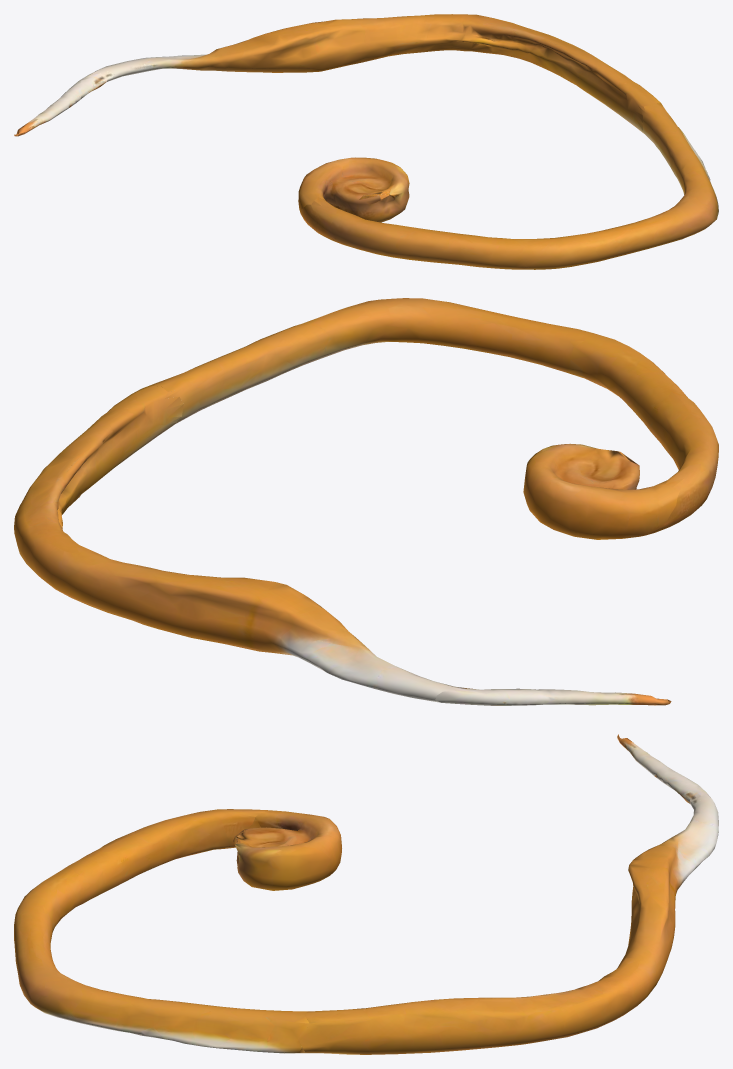
File: ascaris-lumbricoides_A.glb
3 renders of one model, top to bottom at view 1: azimuth 30°, elevation 25°; view 2: azimuth 150°, elevation 25°; view 3: azimuth 270°, elevation 25°, orthographic. The views are drawn at different scales.
Parts seen in each view (by area): view 1: ExtAnt_mesh, ExtPost_mesh, Cola_mesh, Cabeza_mesh; view 2: ExtAnt_mesh, ExtPost_mesh, Cola_mesh, Cabeza_mesh; view 3: ExtAnt_mesh, ExtPost_mesh, Cola_mesh, Cabeza_mesh.
Boxes of the visible parts, x1=… form: ExtAnt_mesh: x1=96, y1=14, x2=660, y2=133; ExtPost_mesh: x1=14, y1=103, x2=718, y2=269; Cola_mesh: x1=298, y1=157, x2=409, y2=222; Cabeza_mesh: x1=14, y1=70, x2=107, y2=136; ExtAnt_mesh: x1=14, y1=385, x2=454, y2=702; ExtPost_mesh: x1=144, y1=298, x2=718, y2=532; Cola_mesh: x1=523, y1=443, x2=684, y2=539; Cabeza_mesh: x1=435, y1=686, x2=671, y2=705; ExtAnt_mesh: x1=296, y1=794, x2=718, y2=1054; ExtPost_mesh: x1=14, y1=739, x2=619, y2=1053; Cola_mesh: x1=233, y1=810, x2=341, y2=890; Cabeza_mesh: x1=617, y1=734, x2=710, y2=804.
Bounding box in the file's own units: 0.9775 × 0.0859 × 0.981.
Materials: 1 (1 with a texture image).
